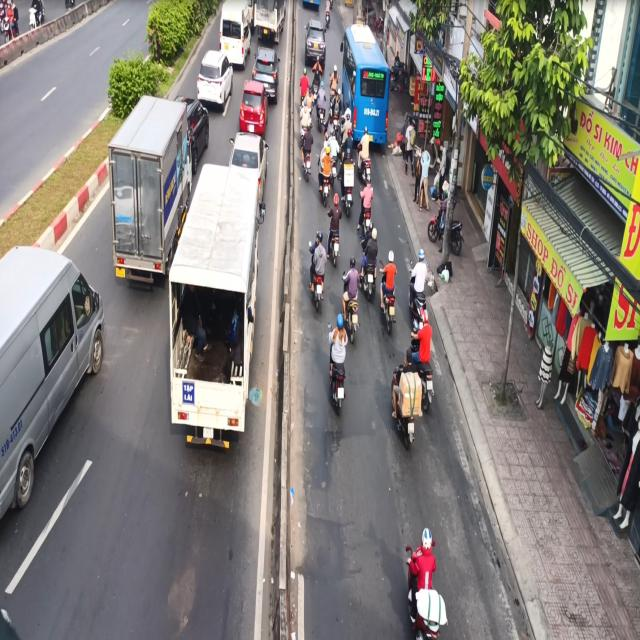bus: (340, 26, 390, 151)
car: (0, 229, 108, 537), (199, 44, 235, 107), (238, 77, 266, 135)
motor: (321, 308, 353, 411), (308, 223, 328, 308), (377, 254, 398, 331)
truck: (164, 161, 261, 466), (105, 94, 189, 280)
